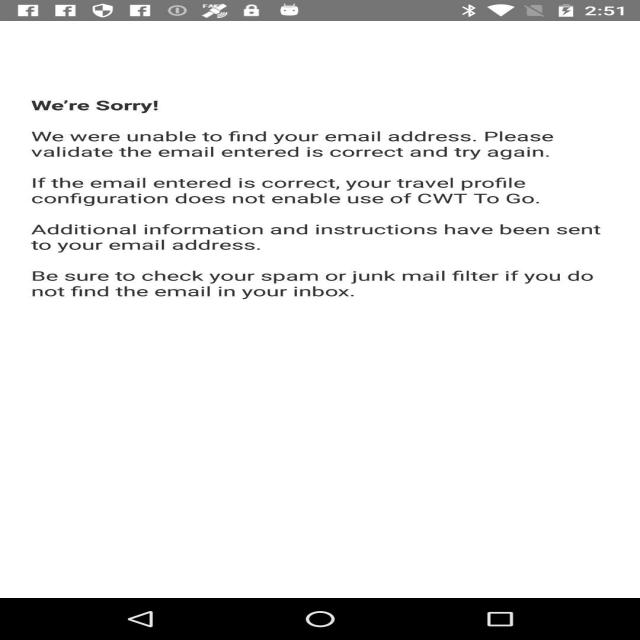text: (30, 100, 609, 300)
